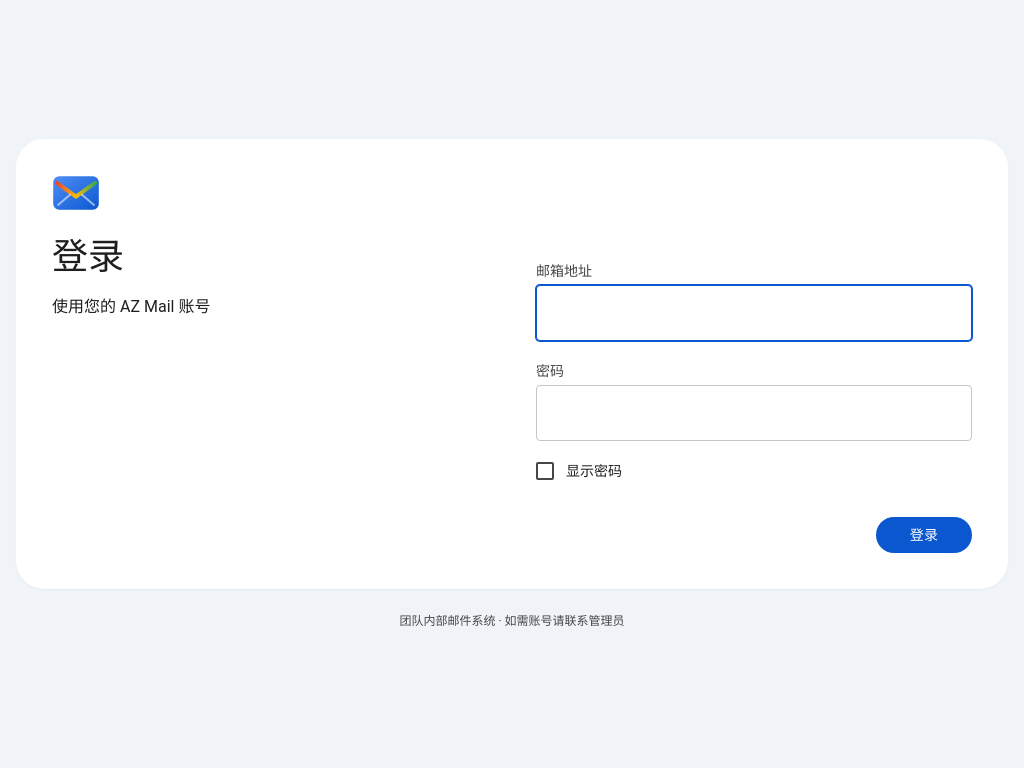
Test case: LoginPage › validates required fields
Click the button "登录".
click(924, 535)  # box x1=876 y1=517 x2=972 y2=553
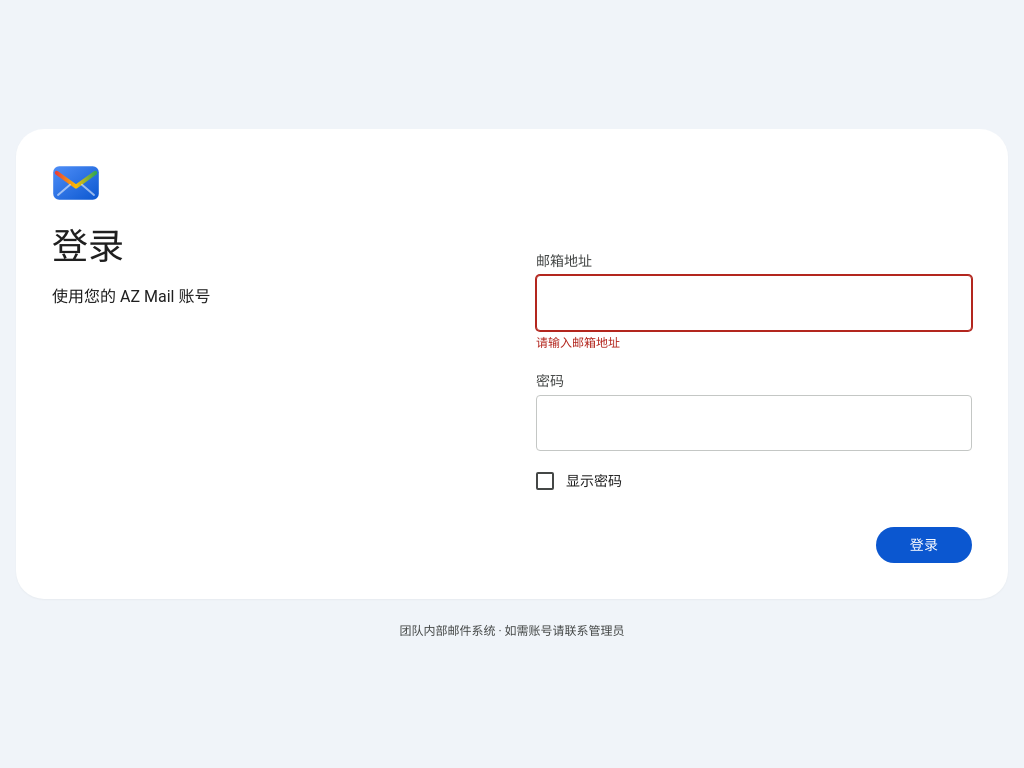
Now the text "请输入邮箱地址" is shown, box x1=536 y1=336 x2=620 y2=350
Type "a@b.test" into the field labelled "邮箱地址".
click(754, 303); type("a@b.test")  # box x1=549 y1=276 x2=959 y2=330
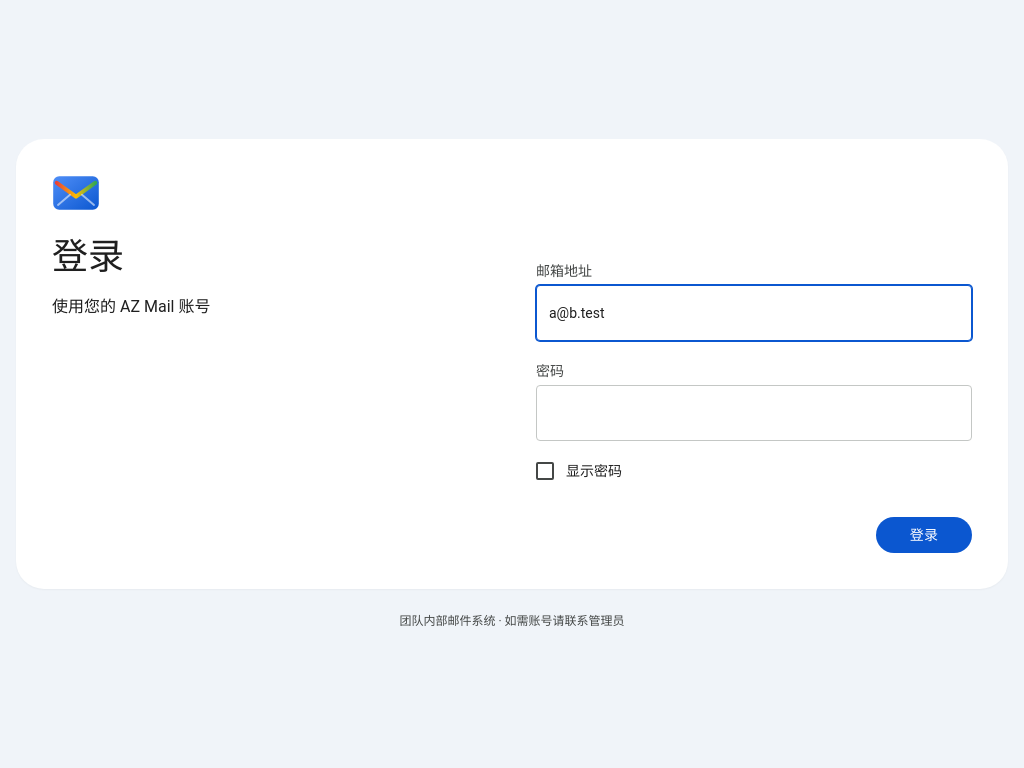
Click the button "登录".
click(924, 535)  # box x1=876 y1=517 x2=972 y2=553
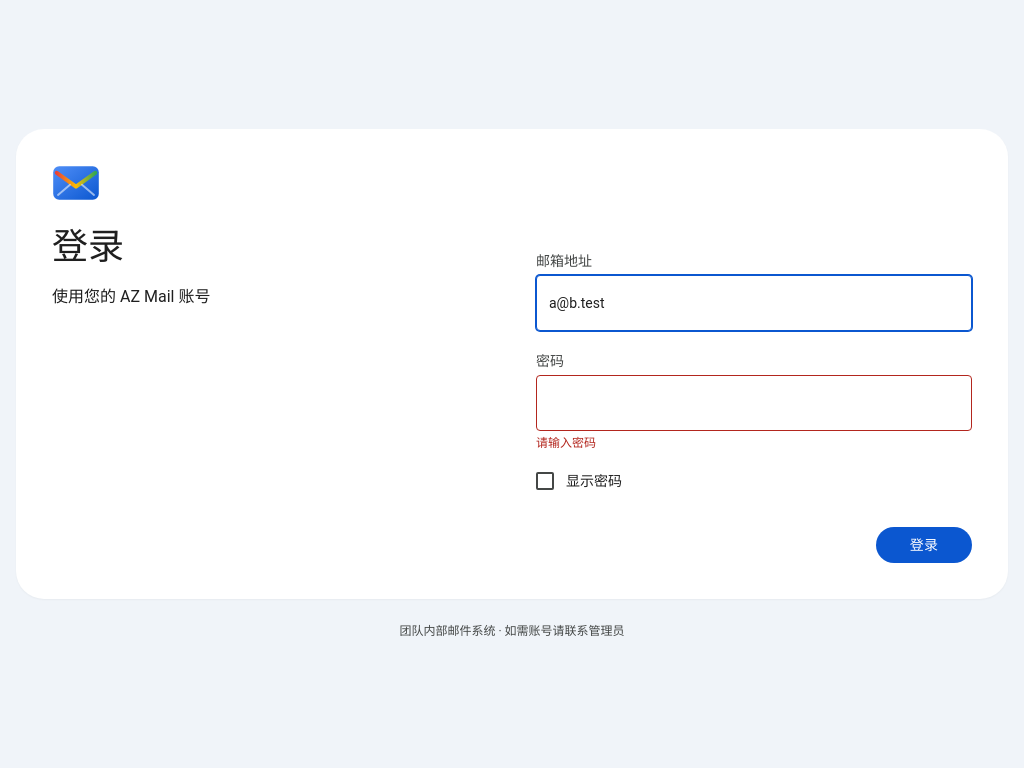
Now the text "请输入密码" is shown, box x1=536 y1=436 x2=596 y2=450
